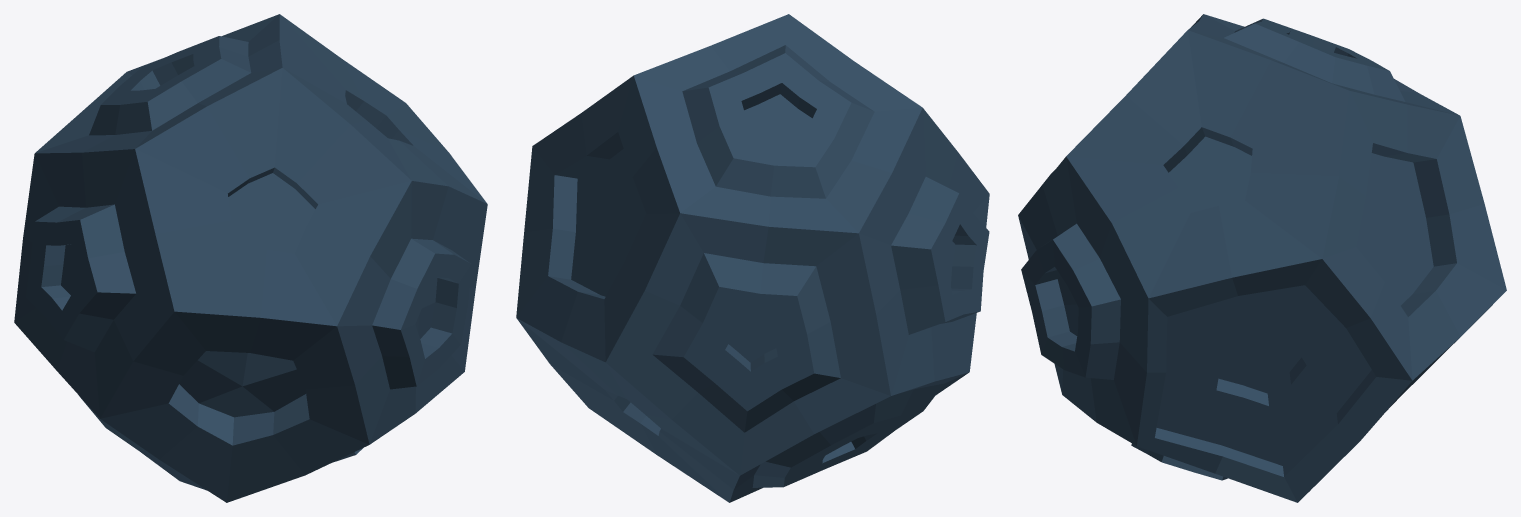
The model's file is meteor.fbx.
The picture shows the model from 3 angles, left to right: view 1: azimuth 30°, elevation 25°; view 2: azimuth 150°, elevation 25°; view 3: azimuth 270°, elevation 25°; orthographic projection. The views are drawn at different scales.
Parts seen in each view (by area): view 1: pPlatonic23; view 2: pPlatonic23; view 3: pPlatonic23.
Part boxes in pixels (x1,y1,x2,y2): pPlatonic23: (14,14,487,502); pPlatonic23: (516,14,989,502); pPlatonic23: (1018,14,1506,502).
Size of the model in its own units: 12.41 by 13.21 by 12.86.
